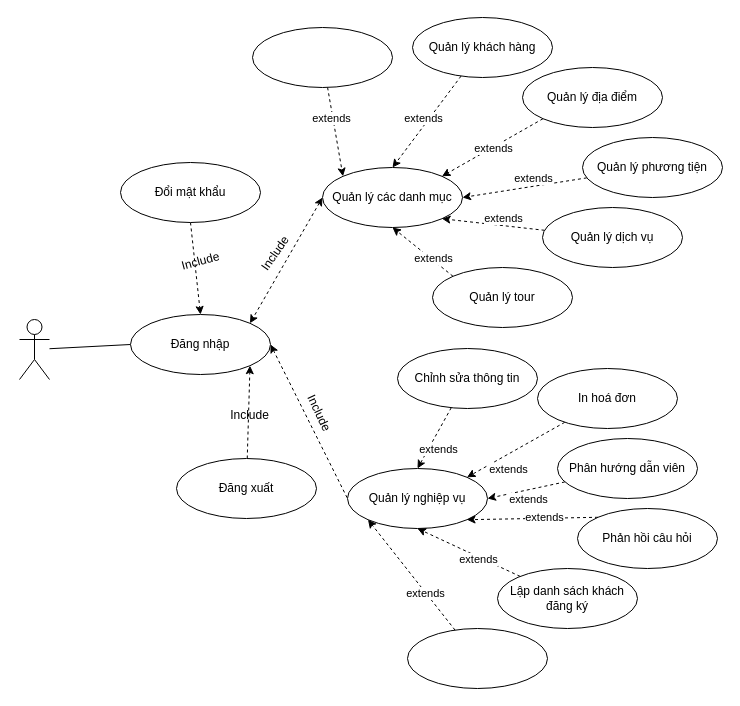
This 740x706 diagram has some shape labels left out. The shapes that lost their labels are listed below. From the top down, each one's centre as x and y in pixels, then its label:
At (x=322, y=57): "Quản lý nhân viên".
At (x=34, y=349): "Admin".
At (x=477, y=658): "Thống kê doanh thu".
